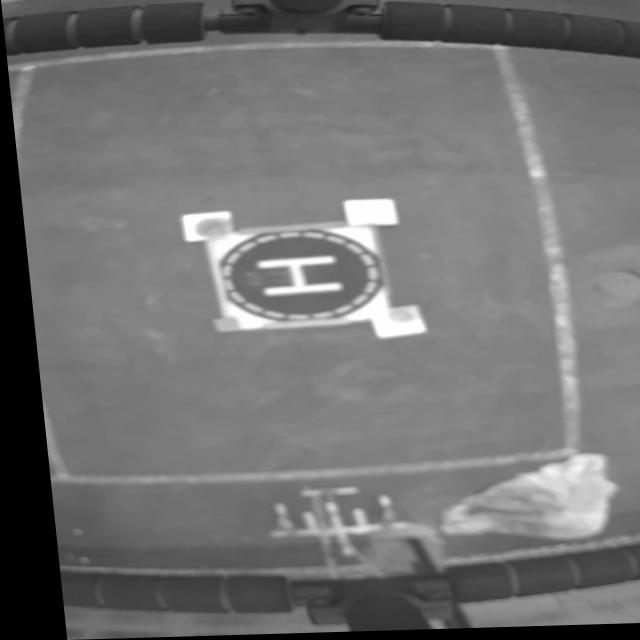Helipad: (249, 256, 336, 298)
